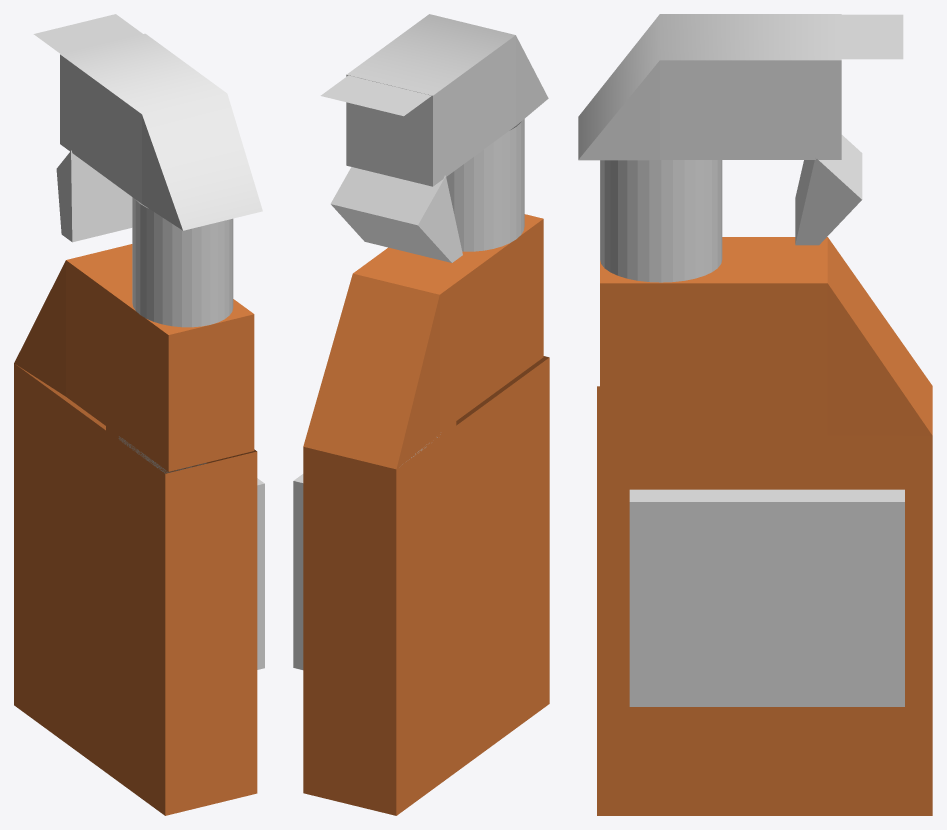
File: atomizador.fbx
3 views of the same model, side by side, from view 1: azimuth 30°, elevation 25°; view 2: azimuth 150°, elevation 25°; view 3: azimuth 270°, elevation 25° (orthographic). The views are drawn at different scales.
Parts seen in each view (by area): view 1: Cilindro.009, Cilindro.012, Cilindro.011, Cilindro.010; view 2: Cilindro.009, Cilindro.012, Cilindro.011, Cilindro.010; view 3: Cilindro.009, Cilindro.010, Cilindro.012, Cilindro.011.
Part boxes in pixels (x1=…): Cilindro.009: x1=14, y1=244, x2=257, y2=815; Cilindro.012: x1=33, y1=14, x2=262, y2=242; Cilindro.011: x1=132, y1=197, x2=233, y2=327; Cilindro.010: x1=118, y1=436, x2=264, y2=669; Cilindro.009: x1=303, y1=214, x2=549, y2=815; Cilindro.012: x1=320, y1=14, x2=548, y2=262; Cilindro.011: x1=446, y1=119, x2=524, y2=251; Cilindro.010: x1=293, y1=434, x2=440, y2=669; Cilindro.009: x1=597, y1=237, x2=932, y2=815; Cilindro.010: x1=629, y1=489, x2=904, y2=706; Cilindro.012: x1=578, y1=14, x2=903, y2=245; Cilindro.011: x1=600, y1=160, x2=722, y2=282.
Bounding box in the file's own units: 116 × 636 × 271.
